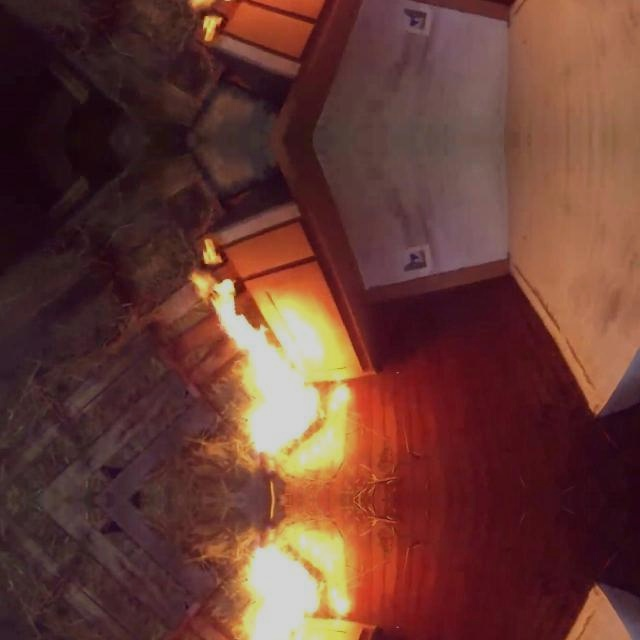fire: (199, 207, 363, 640)
